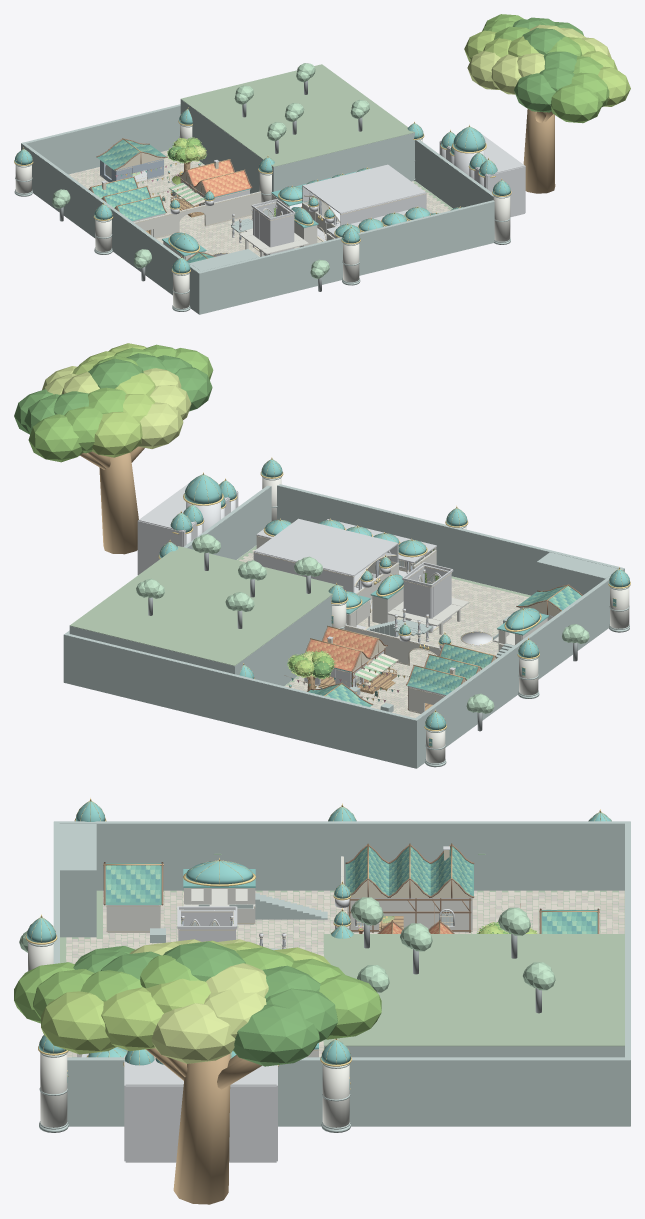
File: fairy-kingdom-castle.fbx
The picture shows the model from 3 angles, top to bottom: view 1: azimuth 30°, elevation 25°; view 2: azimuth 150°, elevation 25°; view 3: azimuth 270°, elevation 25°; orthographic projection. The views are drawn at different scales.
Visible parts, largest first — view 1: Castle chunk 1 2 Sage stone, Castle chunk 3 -2 Garden grass, Castle chunk 3 -2 Sage stone, Castle chunk -2 -1 Sage stone, Castle chunk 1 -4 Sage stone, Castle chunk 3 0 Cool white marble, Castle chunk 5 -1 Sage stone, Castle chunk 6 0 Cool white marble, Castle chunk 7 0 Honey oak, Castle chunk 7 1 Living leaf 0, Castle chunk 7 2 Living leaf 1, Castle chunk 7 1 Living leaf 3 (+35 smaller); view 2: Castle chunk 1 -4 Sage stone, Castle chunk 3 -2 Garden grass, Castle chunk 1 2 Sage stone, Castle chunk -2 -1 Sage stone, Castle chunk 3 0 Cool white marble, Castle chunk 3 -2 Sage stone, Castle chunk 7 0 Honey oak, Castle chunk 6 0 Cool white marble, Castle chunk 7 0 Living leaf 2, Castle chunk 8 0 Living leaf 0, Castle chunk 5 -1 Sage stone, Castle chunk -2 2 Sage stone (+27 smaller); view 3: Castle chunk -2 -1 Sage stone, Castle chunk 3 -2 Garden grass, Castle chunk 5 -1 Sage stone, Castle chunk 6 0 Cool white marble, Castle chunk 8 0 Living leaf 0, Castle chunk 7 0 Honey oak, Castle chunk 8 0 Living leaf 3, Castle chunk 8 1 Living leaf 2, Castle chunk -2 2 Sage stone, Castle chunk 1 -1 Garden grass, Castle chunk 8 2 Living leaf 2, Castle chunk 3 -2 Sage stone (+45 smaller).
Boxes of the visible parts, bbox=[...] form: Castle chunk 1 2 Sage stone: bbox=[197, 200, 494, 314]; Castle chunk 3 -2 Garden grass: bbox=[181, 64, 414, 166]; Castle chunk 3 -2 Sage stone: bbox=[180, 99, 414, 193]; Castle chunk -2 -1 Sage stone: bbox=[21, 143, 202, 314]; Castle chunk 1 -4 Sage stone: bbox=[21, 104, 180, 174]; Castle chunk 3 0 Cool white marble: bbox=[290, 164, 425, 223]; Castle chunk 5 -1 Sage stone: bbox=[414, 138, 493, 208]; Castle chunk 6 0 Cool white marble: bbox=[439, 134, 525, 216]; Castle chunk 7 0 Honey oak: bbox=[523, 109, 555, 193]; Castle chunk 7 1 Living leaf 0: bbox=[514, 51, 577, 112]; Castle chunk 7 2 Living leaf 1: bbox=[550, 83, 602, 123]; Castle chunk 7 1 Living leaf 3: bbox=[491, 53, 544, 94]; Castle chunk 1 -4 Sage stone: bbox=[63, 633, 418, 768]; Castle chunk 3 -2 Garden grass: bbox=[69, 546, 342, 665]; Castle chunk 1 2 Sage stone: bbox=[277, 484, 620, 595]; Castle chunk -2 -1 Sage stone: bbox=[413, 567, 624, 768]; Castle chunk 3 0 Cool white marble: bbox=[254, 518, 398, 592]; Castle chunk 3 -2 Sage stone: bbox=[69, 587, 343, 685]; Castle chunk 7 0 Honey oak: bbox=[99, 452, 138, 554]; Castle chunk 6 0 Cool white marble: bbox=[137, 482, 238, 574]; Castle chunk 7 0 Living leaf 2: bbox=[92, 372, 155, 457]; Castle chunk 8 0 Living leaf 0: bbox=[14, 358, 143, 434]; Castle chunk 5 -1 Sage stone: bbox=[64, 485, 271, 682]; Castle chunk -2 2 Sage stone: bbox=[536, 552, 617, 594]; Castle chunk -2 -1 Sage stone: bbox=[53, 821, 624, 890]; Castle chunk 3 -2 Garden grass: bbox=[324, 934, 624, 1046]; Castle chunk 5 -1 Sage stone: bbox=[67, 1057, 630, 1132]; Castle chunk 6 0 Cool white marble: bbox=[124, 1055, 277, 1162]; Castle chunk 8 0 Living leaf 0: bbox=[163, 941, 337, 1066]; Castle chunk 7 0 Honey oak: bbox=[173, 1053, 230, 1204]; Castle chunk 8 0 Living leaf 3: bbox=[151, 963, 268, 1063]; Castle chunk 8 1 Living leaf 2: bbox=[101, 978, 210, 1051]; Castle chunk -2 2 Sage stone: bbox=[60, 824, 96, 937]; Castle chunk 1 -1 Garden grass: bbox=[60, 890, 624, 1057]; Castle chunk 8 2 Living leaf 2: bbox=[41, 991, 116, 1054]; Castle chunk 3 -2 Sage stone: bbox=[324, 1046, 624, 1057].
Size of the model in its own units: 14252 by 4540 by 10047.
